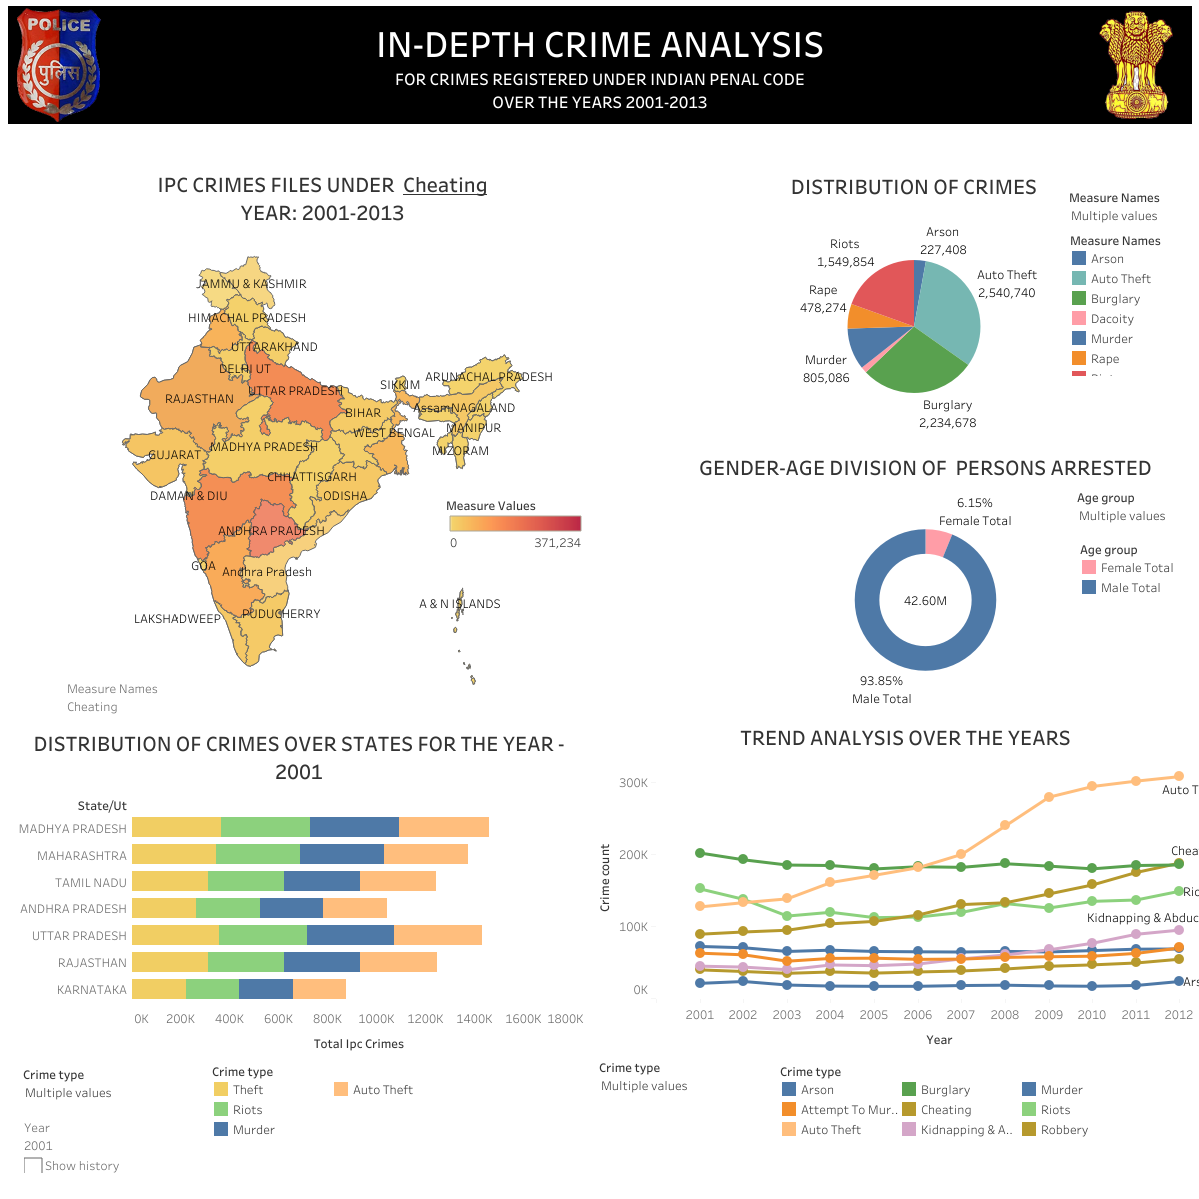

Layout of this report page (visuals, bound fields, positions):
{"tool":"tableau","page":{"name":"INDEPTH CRME ANALYSIS-Dashboard","canvas":[1200,1200],"ordinal":0},"visuals":[{"type":"title","box":[8,6,1184,118]},{"type":"image","param":"Image/Untitlewffed-1.png","box":[7,8,105,114]},{"type":"image","param":"Image/Untitled-1.png","box":[1089,11,95,108]},{"type":"worksheet","title":"MAP FINAL","mark":"Multipolygon","box":[7,160,631,550]},{"type":"filter","title":"DISTRIBUTION OF CRIMES OF STATES","param":"[federated.0mx4jde1n1tbzi1gqdsn21181hmt].[:Measure Names]","box":[1069,187,125,39]},{"type":"filter","title":"GENDER-AGE DIVISION OF  PERSONS ARRESTED","param":"[federated.16gq8my0x8xvci13ndbj50n7udkn].[none:Pivot Field Names:nk]","box":[1077,487,119,39]},{"type":"legend","title":"MAP FINAL","param":"[federated.0v0ed4v04x9tc517l1p6i1oxle73].[Multiple Values]","box":[446,492,140,76]},{"type":"legend","title":"GENDER-AGE DIVISION OF  PERSONS ARRESTED","param":"[federated.16gq8my0x8xvci13ndbj50n7udkn].[none:Pivot Field Names:nk]","box":[1079,538,110,150]},{"type":"currpage","title":"MAP FINAL","box":[67,678,342,39]},{"type":"worksheet","title":"TOTAL IPC CRIMES VS STATES","mark":"Automatic","rows":["STATE/UT"],"cols":["TOTAL IPC CRIMES"],"box":[12,723,574,336]},{"type":"filter","title":"TREND ANALYSIS","param":"[federated.0xfkjus0fghovq19jz3g01hgn1y8].[none:Pivot Field Names:nk]","box":[599,1057,171,48]},{"type":"legend","title":"TOTAL IPC CRIMES VS STATES","param":"[federated.0xfkjus0fghovq19jz3g01hgn1y8].[none:Pivot Field Names:nk]","box":[211,1060,339,81]},{"type":"legend","title":"TREND ANALYSIS","param":"[federated.0xfkjus0fghovq19jz3g01hgn1y8].[none:Pivot Field Names:nk]","box":[779,1060,413,87]},{"type":"filter","title":"TOTAL IPC CRIMES VS STATES","param":"[federated.0xfkjus0fghovq19jz3g01hgn1y8].[none:Pivot Field Names:nk]","box":[23,1064,160,47]},{"type":"currpage","title":"TOTAL IPC CRIMES VS STATES","box":[24,1117,156,56]}]}

Visuals, with their boxes in screenshot pixels (x1, y1, x2, y2), scaled from the page's 1200x1200 canvas onto the 1199x1199 screenshot:
title: 8 6 1191 124
image: 7 8 112 122
image: 1088 11 1183 119
"MAP FINAL" worksheet (Multipolygon marks): 7 160 637 709
"DISTRIBUTION OF CRIMES OF STATES" filter: 1068 187 1193 226
"GENDER-AGE DIVISION OF  PERSONS ARRESTED" filter: 1076 487 1195 526
"MAP FINAL" legend: 446 492 586 568
"GENDER-AGE DIVISION OF  PERSONS ARRESTED" legend: 1078 538 1188 687
"MAP FINAL" currpage: 67 677 409 716
"TOTAL IPC CRIMES VS STATES" worksheet: 12 722 586 1058
"TREND ANALYSIS" filter: 599 1056 769 1104
"TOTAL IPC CRIMES VS STATES" legend: 211 1059 550 1140
"TREND ANALYSIS" legend: 778 1059 1191 1146
"TOTAL IPC CRIMES VS STATES" filter: 23 1063 183 1110
"TOTAL IPC CRIMES VS STATES" currpage: 24 1116 180 1172
